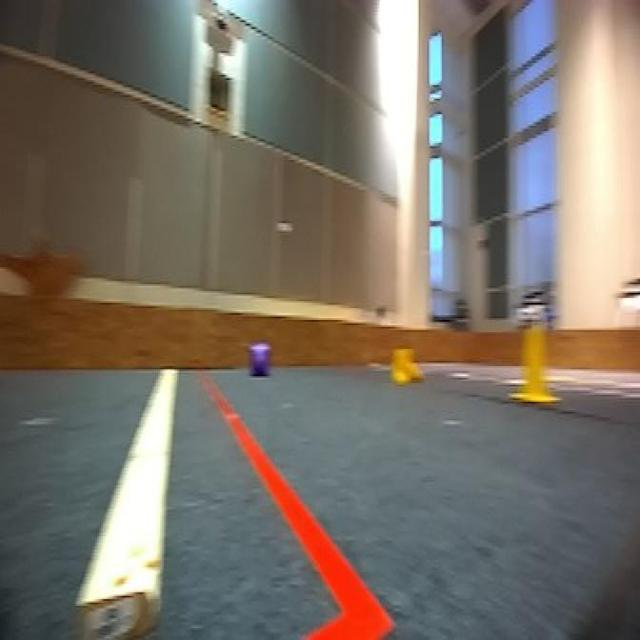frc_cone: (508, 320, 560, 405), (386, 344, 428, 388)
frc_cube: (248, 339, 272, 376)
